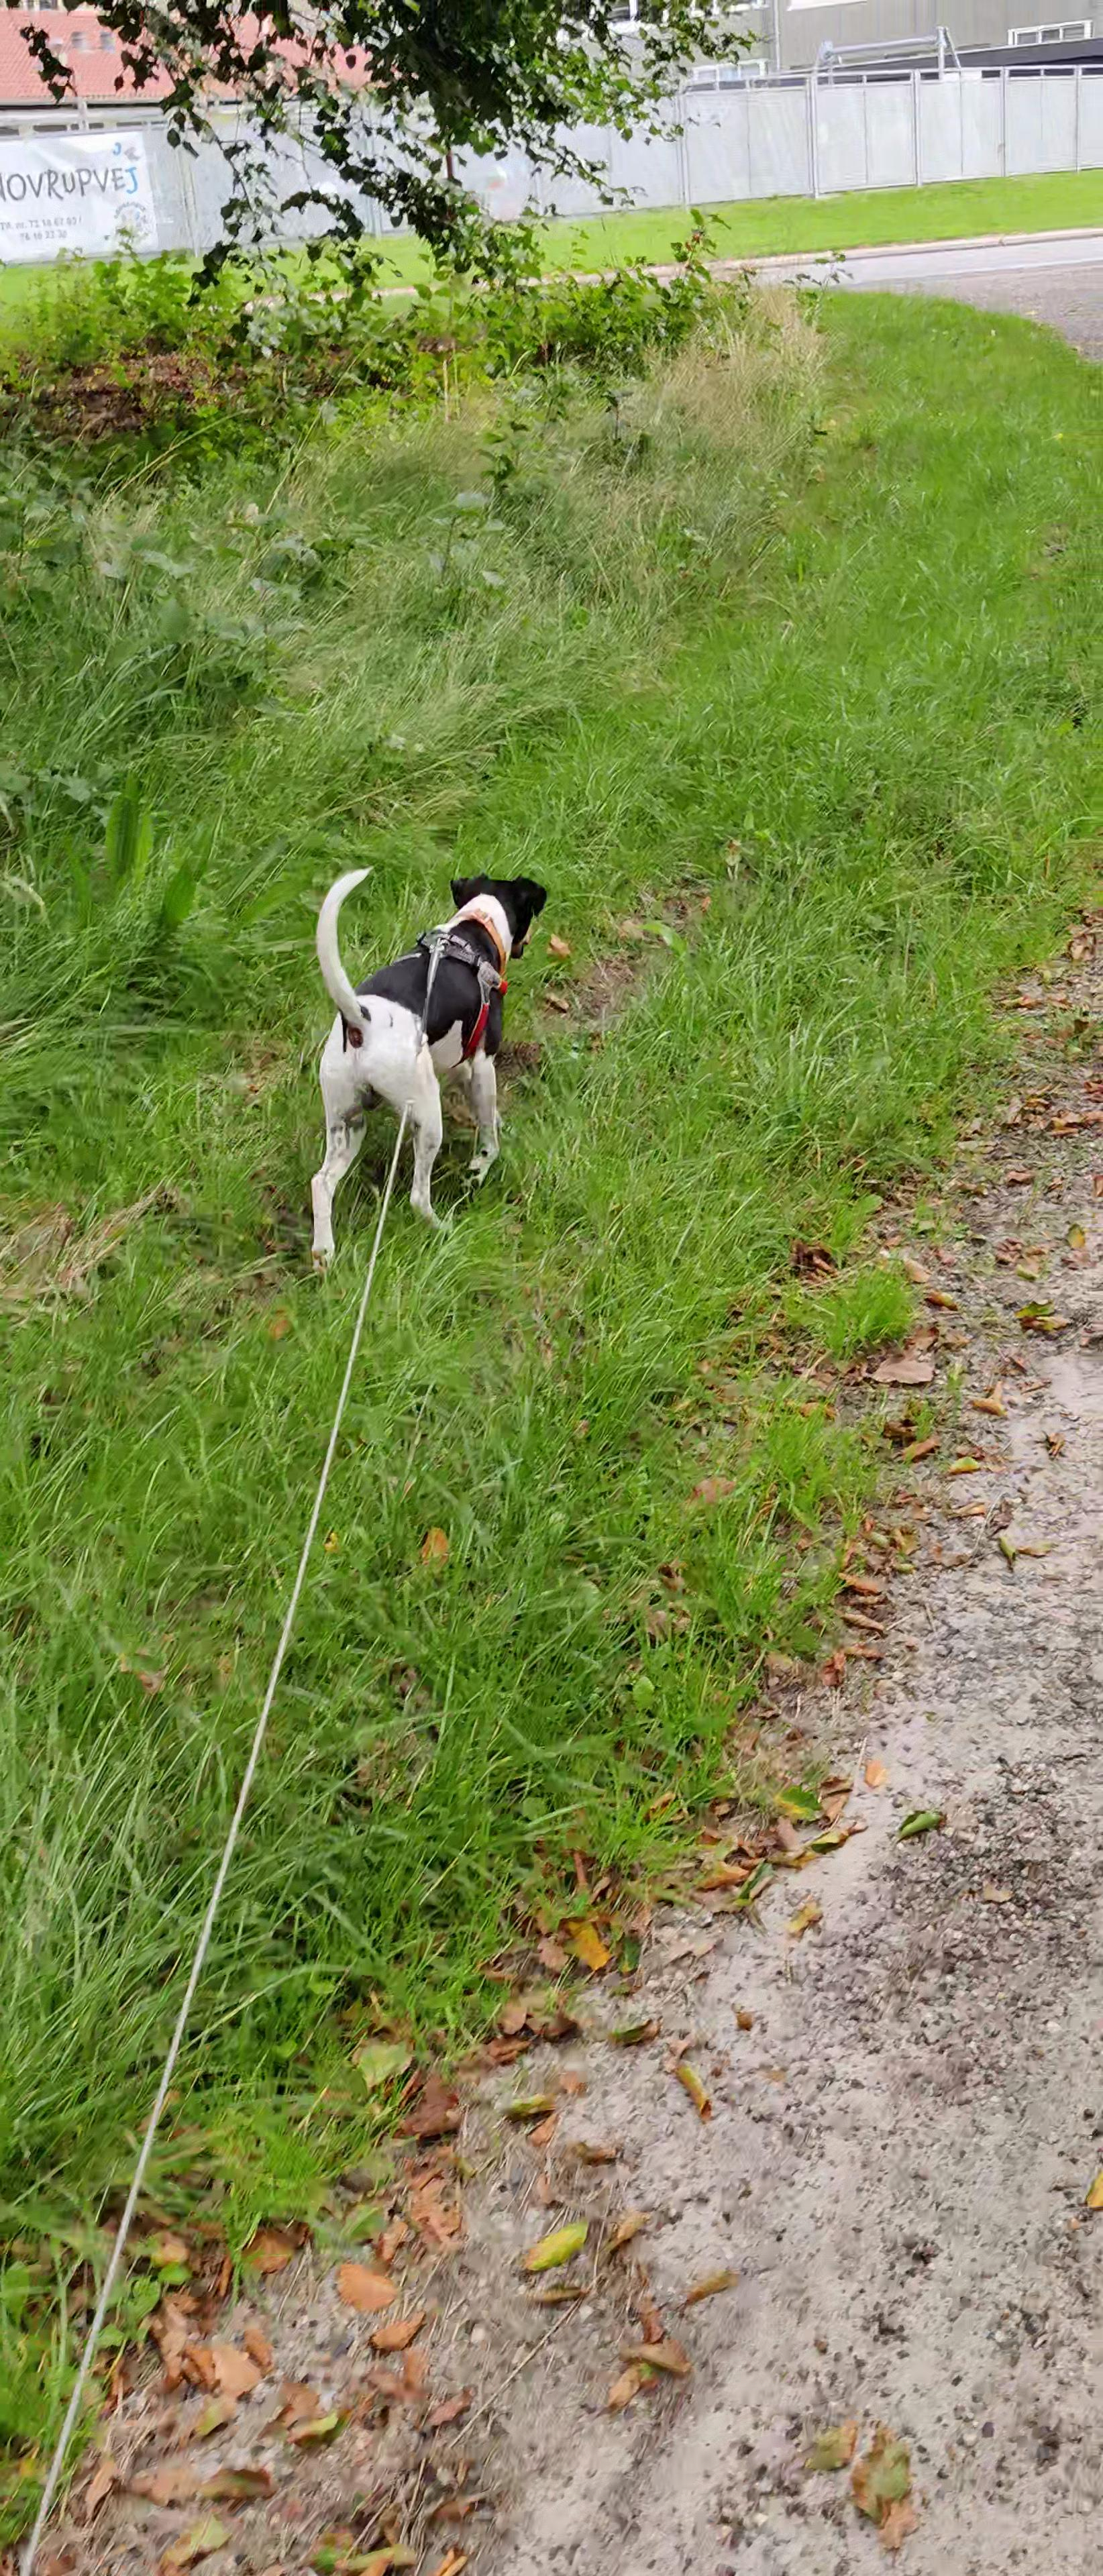Dog: (284, 846, 556, 1276)
